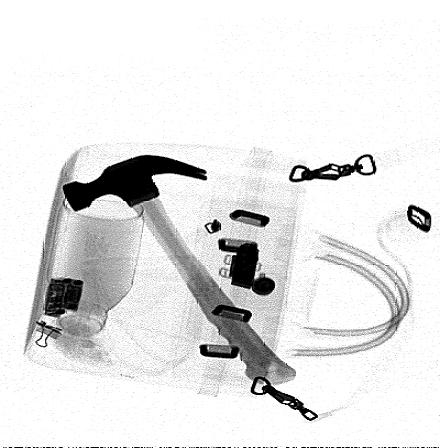Hammer: (61, 155, 297, 386)
